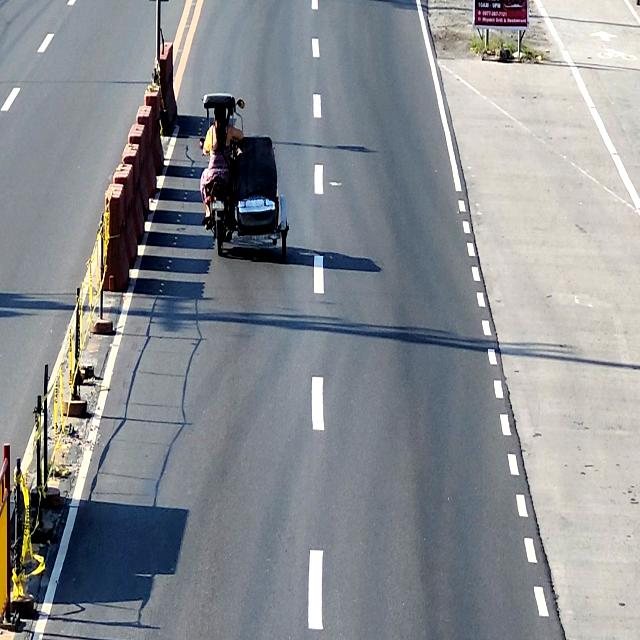License-Plate: (212, 200, 225, 212)
Tricycle: (200, 93, 290, 262)
